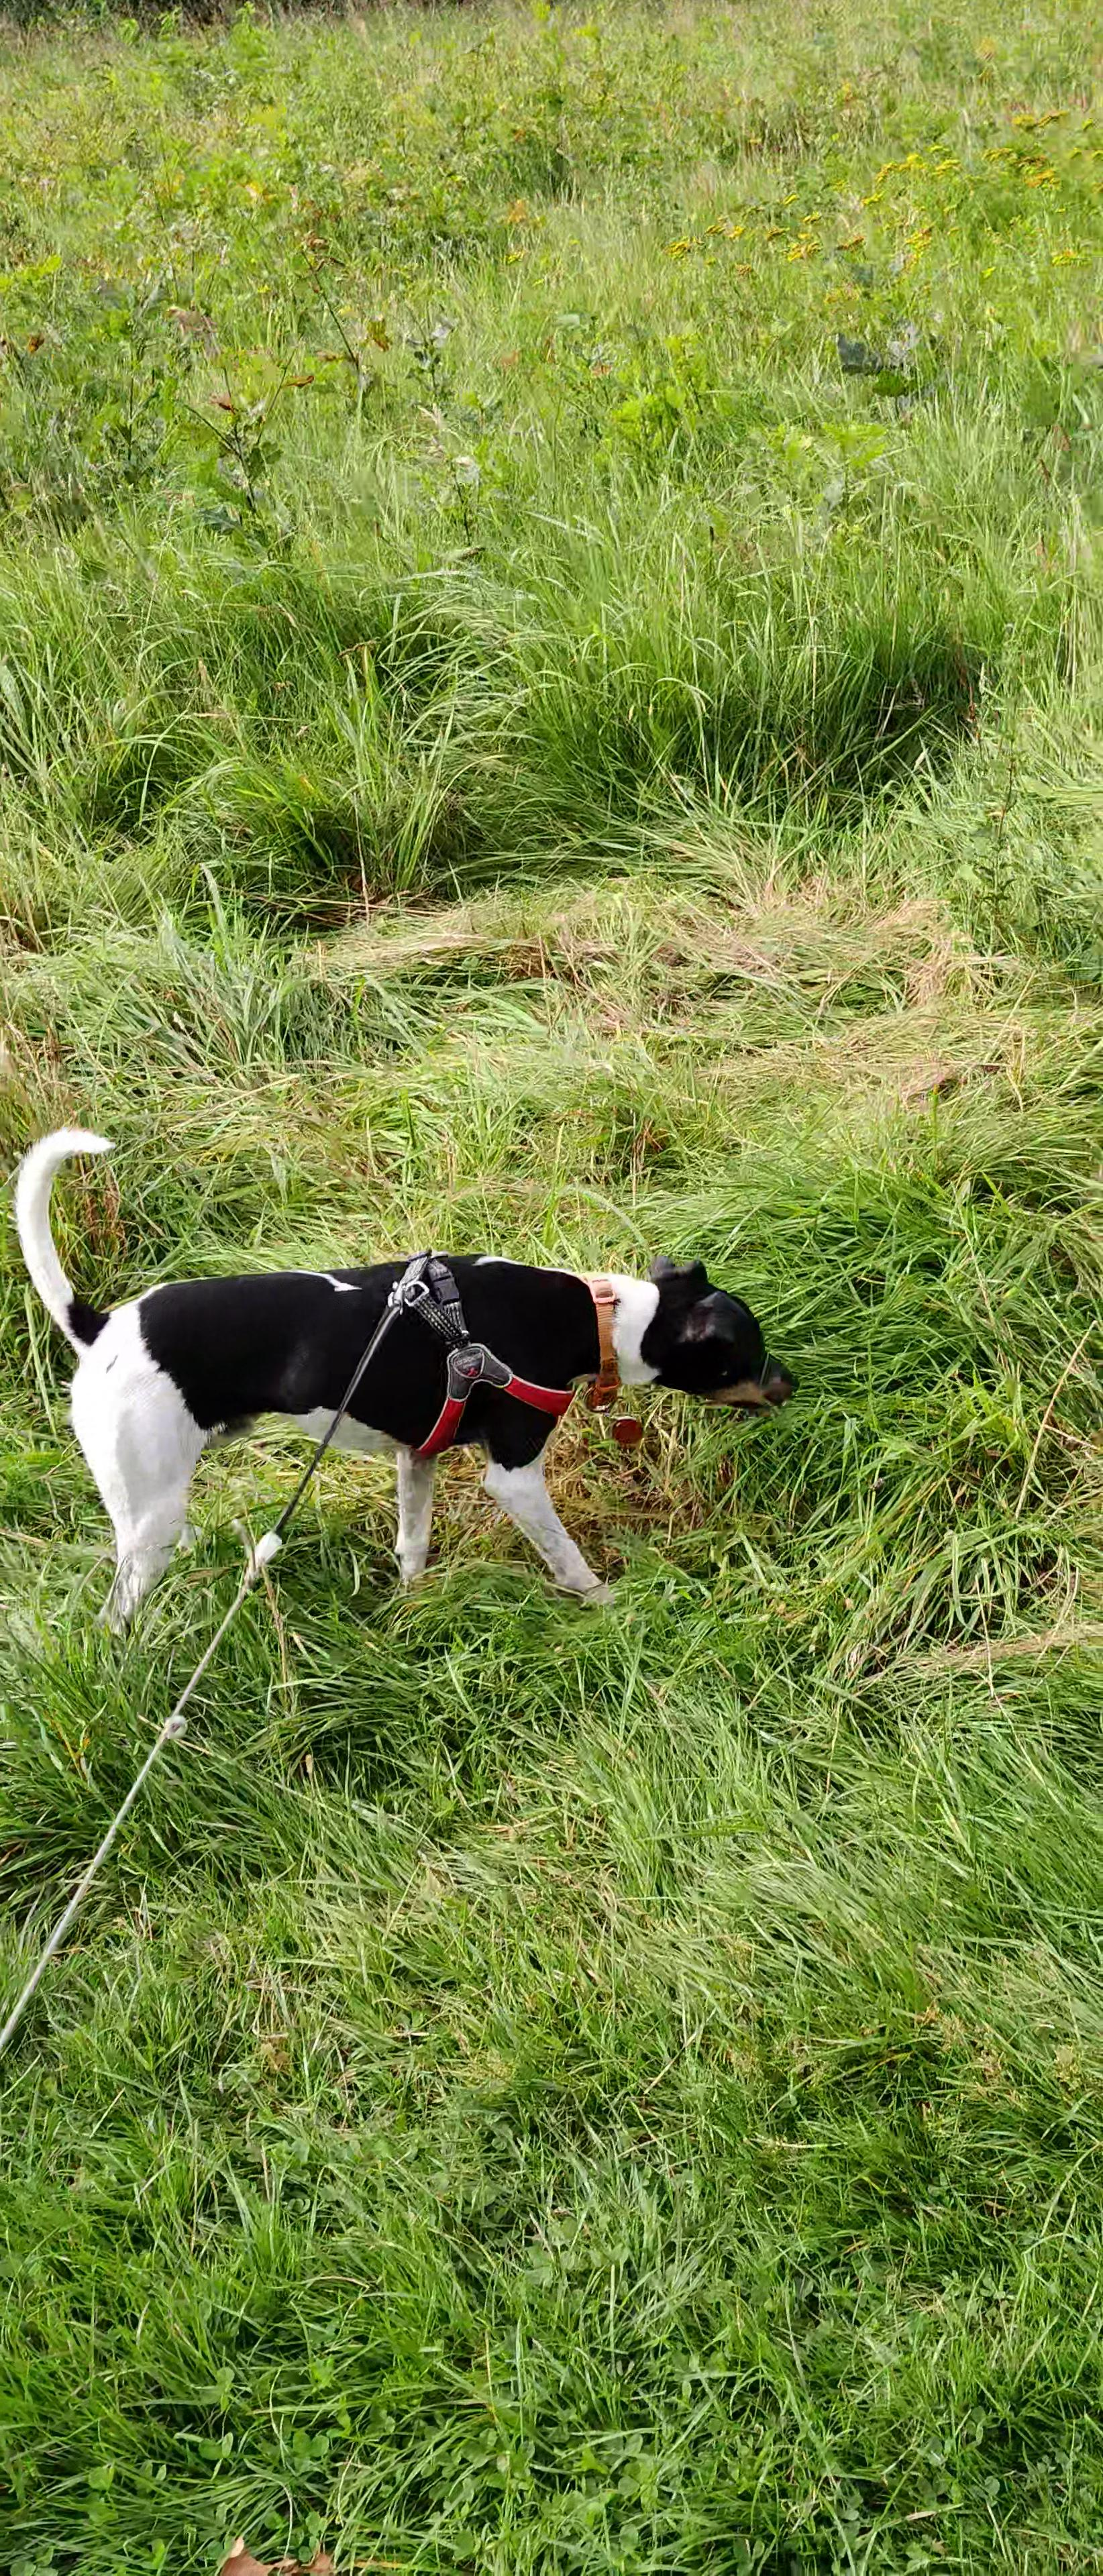Dog: (10, 1120, 807, 1631)
